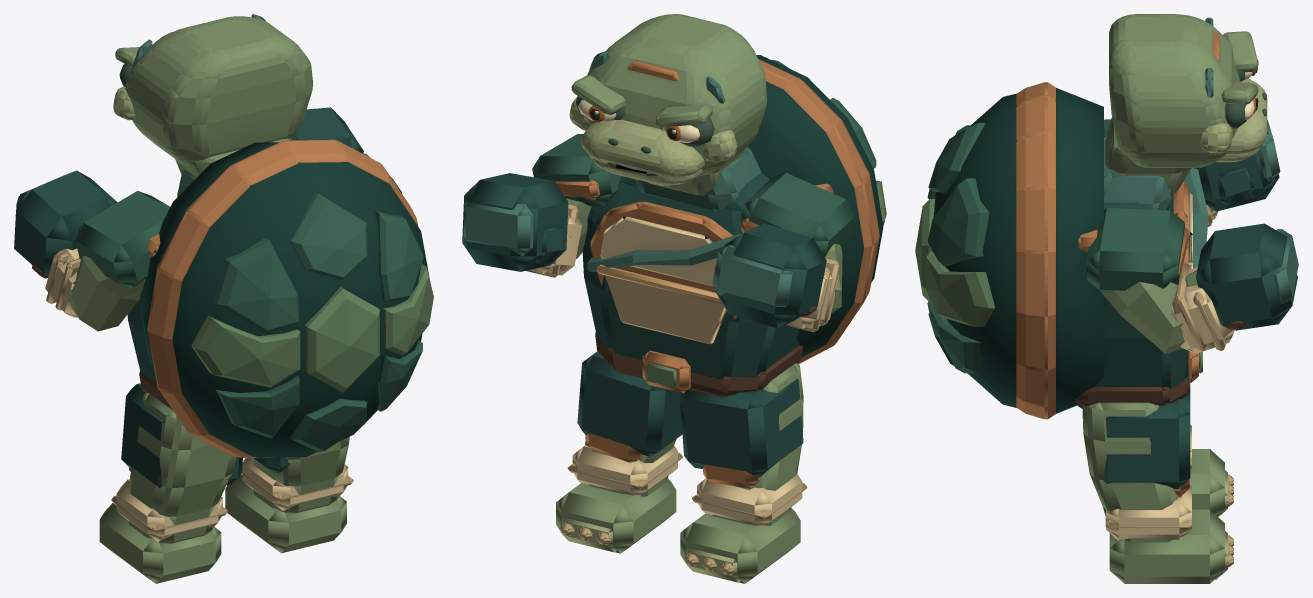
The model's file is Juniper_Tortoise.glb.
The picture shows the model from 3 angles, left to right: view 1: azimuth 30°, elevation 25°; view 2: azimuth 150°, elevation 25°; view 3: azimuth 270°, elevation 25°; orthographic projection.
Parts seen in each view (by area): view 1: Torso_Shell, Head_Shell, Left_Leg_Shell, Left_Arm_Shell, Right_Leg_Shell, Right_Arm_Shell; view 2: Torso_Shell, Head_Shell, Left_Leg_Shell, Right_Leg_Shell, Left_Arm_Shell, Right_Arm_Shell; view 3: Torso_Shell, Head_Shell, Right_Arm_Shell, Right_Leg_Shell, Left_Arm_Shell, Left_Leg_Shell.
Boxes of the visible parts, x1,y1,x2,y2 form: Torso_Shell: (127, 139, 433, 458); Head_Shell: (113, 14, 312, 177); Left_Leg_Shell: (99, 383, 242, 583); Left_Arm_Shell: (14, 170, 169, 331); Right_Leg_Shell: (225, 437, 353, 553); Right_Arm_Shell: (291, 107, 401, 192); Torso_Shell: (582, 55, 886, 396); Head_Shell: (569, 14, 767, 195); Left_Leg_Shell: (679, 363, 807, 583); Right_Leg_Shell: (556, 351, 682, 553); Left_Arm_Shell: (712, 173, 854, 332); Right_Arm_Shell: (462, 134, 621, 277); Torso_Shell: (915, 82, 1208, 419); Head_Shell: (1105, 14, 1267, 193); Right_Arm_Shell: (1086, 208, 1298, 353); Right_Leg_Shell: (1082, 388, 1233, 583); Left_Arm_Shell: (1104, 119, 1280, 226); Left_Leg_Shell: (1189, 382, 1233, 516).
Size of the model in its own units: 3.15 by 4.6 by 3.13.
1 material, 1 textured.
